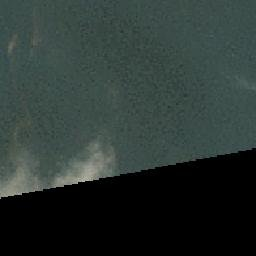cloud: (57, 140, 108, 174), (5, 146, 35, 187)
debris: (31, 16, 41, 48), (8, 35, 15, 55)
